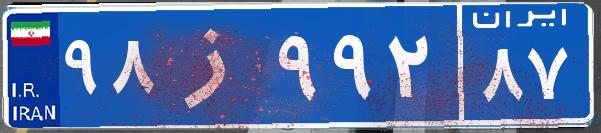2: (385, 28, 445, 110)
7: (525, 38, 570, 115)
8: (475, 38, 525, 113), (110, 28, 158, 105)
9: (273, 28, 330, 110), (330, 28, 385, 110), (57, 26, 110, 107)
ز: (158, 15, 273, 115)
